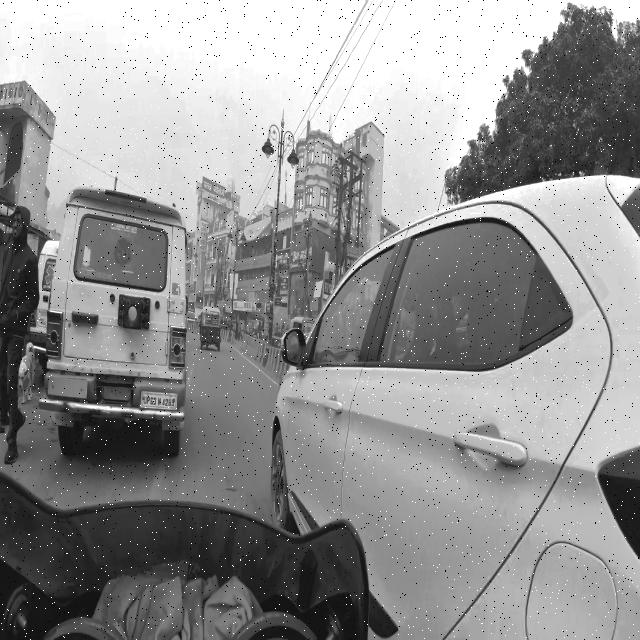Auto-Rickshaw: (196, 302, 228, 358)
Car: (271, 170, 640, 640), (48, 182, 190, 476)
